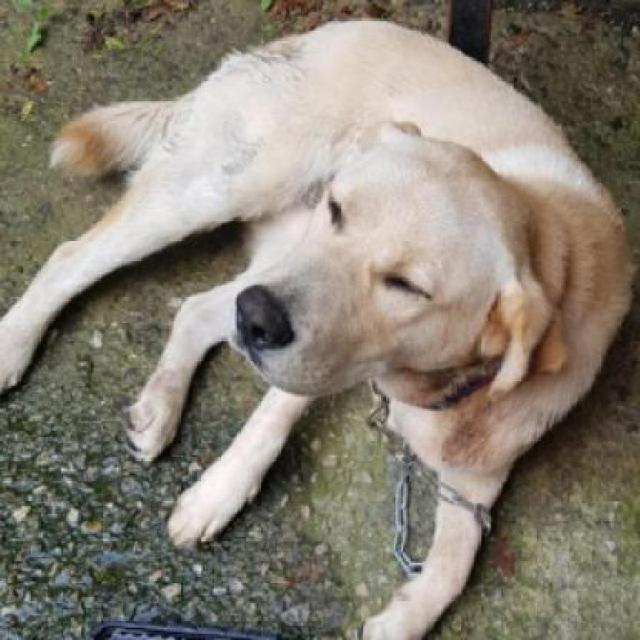Dog: (4, 14, 634, 635)
